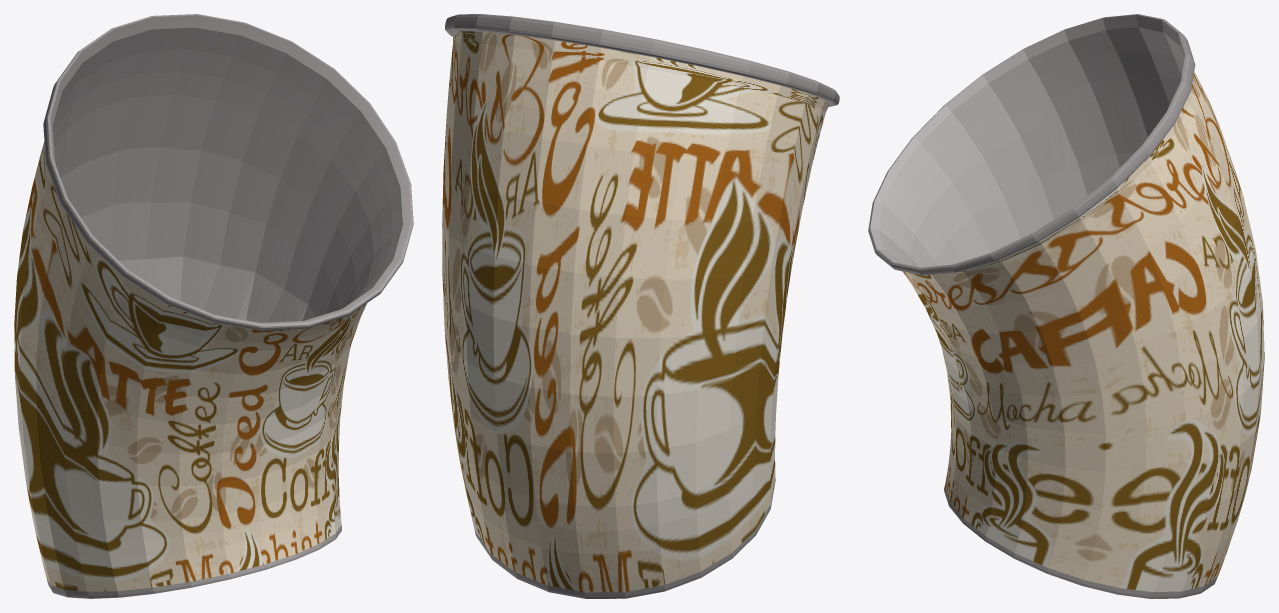
File: bend_medium_1.obj
3 renders of one model, left to right at view 1: azimuth 30°, elevation 25°; view 2: azimuth 150°, elevation 25°; view 3: azimuth 270°, elevation 25°, orthographic. The views are drawn at different scales.
Visible parts, largest first — view 1: model; view 2: model; view 3: model.
Part boxes in pixels (x1=…): model: x1=14, y1=14, x2=413, y2=598; model: x1=442, y1=14, x2=839, y2=598; model: x1=868, y1=14, x2=1264, y2=598.
Size of the model in its own units: 0.0833 by 0.1276 by 0.0875.
Materials: 1 (1 with a texture image).
